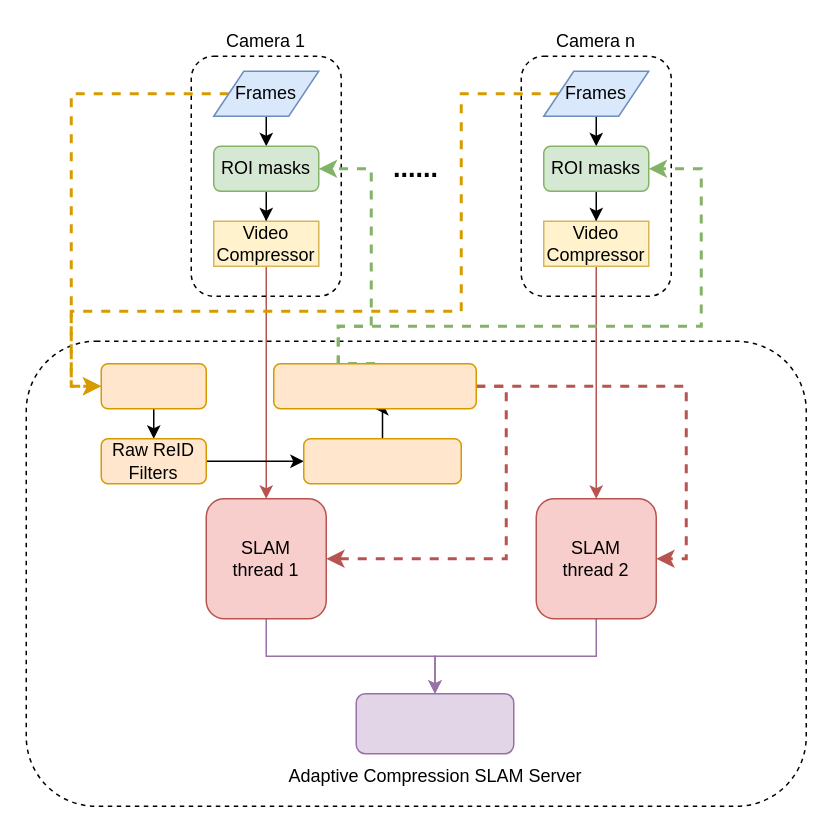
Image size: 833x833. Some labels were removed from this diagram. Here are the shapes that lost their labels. From the top down, the centre of each, then its label:
point 153,385: ReID Module
point 374,385: Optimal Compression Configure Generator
point 381,460: Regions Overlap Profiler
point 434,723: SLAM Global thread
